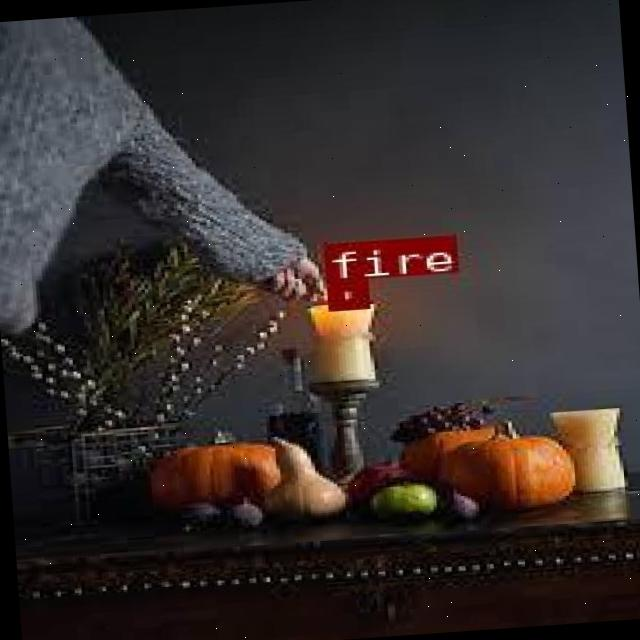fire: (323, 277, 364, 309)
